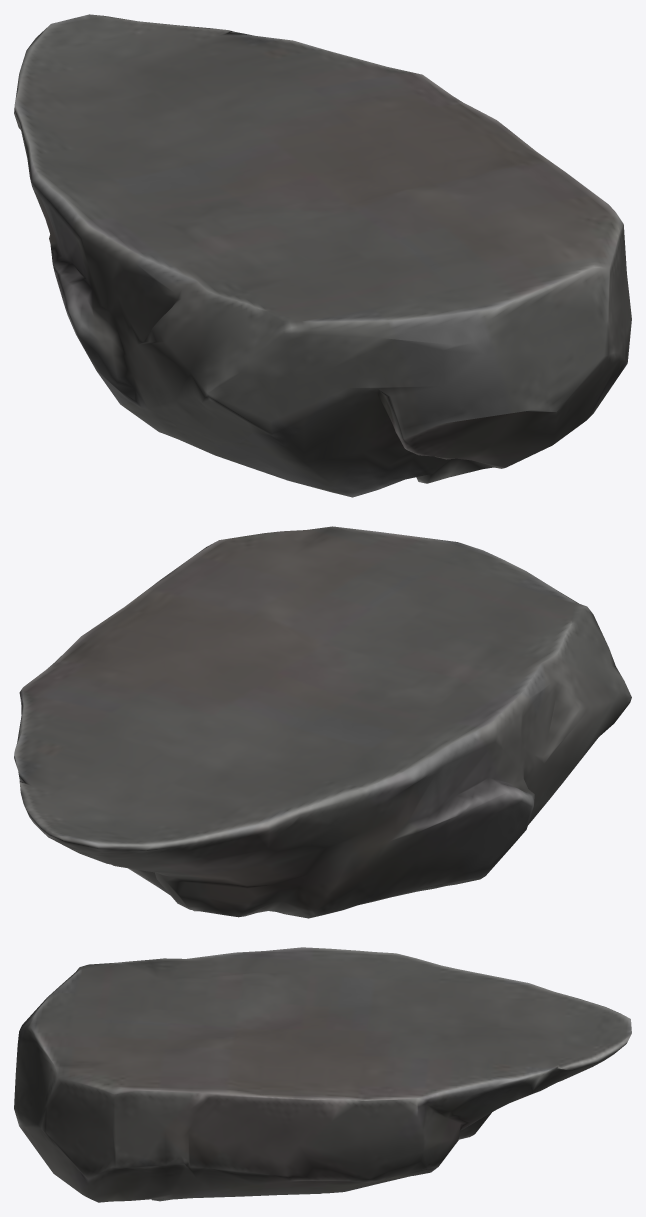
Rendered from SM_Cliff_03.glb.
The picture shows the model from 3 angles, top to bottom: view 1: azimuth 30°, elevation 25°; view 2: azimuth 150°, elevation 25°; view 3: azimuth 270°, elevation 25°; orthographic projection. The views are drawn at different scales.
Parts seen in each view (by area): view 1: SM_Cliff_03; view 2: SM_Cliff_03; view 3: SM_Cliff_03.
Boxes of the visible parts, x1,y1,x2,y2 form: SM_Cliff_03: (14, 14, 631, 497); SM_Cliff_03: (14, 526, 631, 918); SM_Cliff_03: (14, 947, 631, 1202).
Bounding box in the file's own units: 5.11 × 2.46 × 8.33.
Materials: 1 (1 with a texture image).
